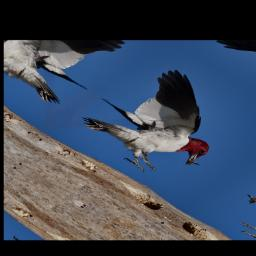Woodpecker: (65, 58, 256, 187)
